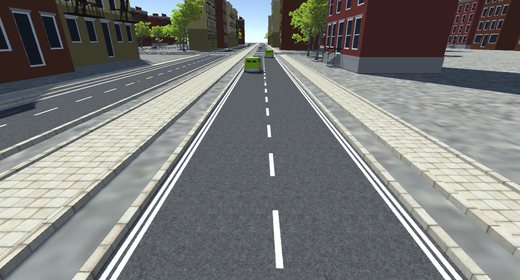centerstrip: (252, 72, 292, 274)
sidestripe: (328, 124, 467, 280), (101, 121, 211, 279), (277, 59, 329, 126), (213, 61, 250, 121)
